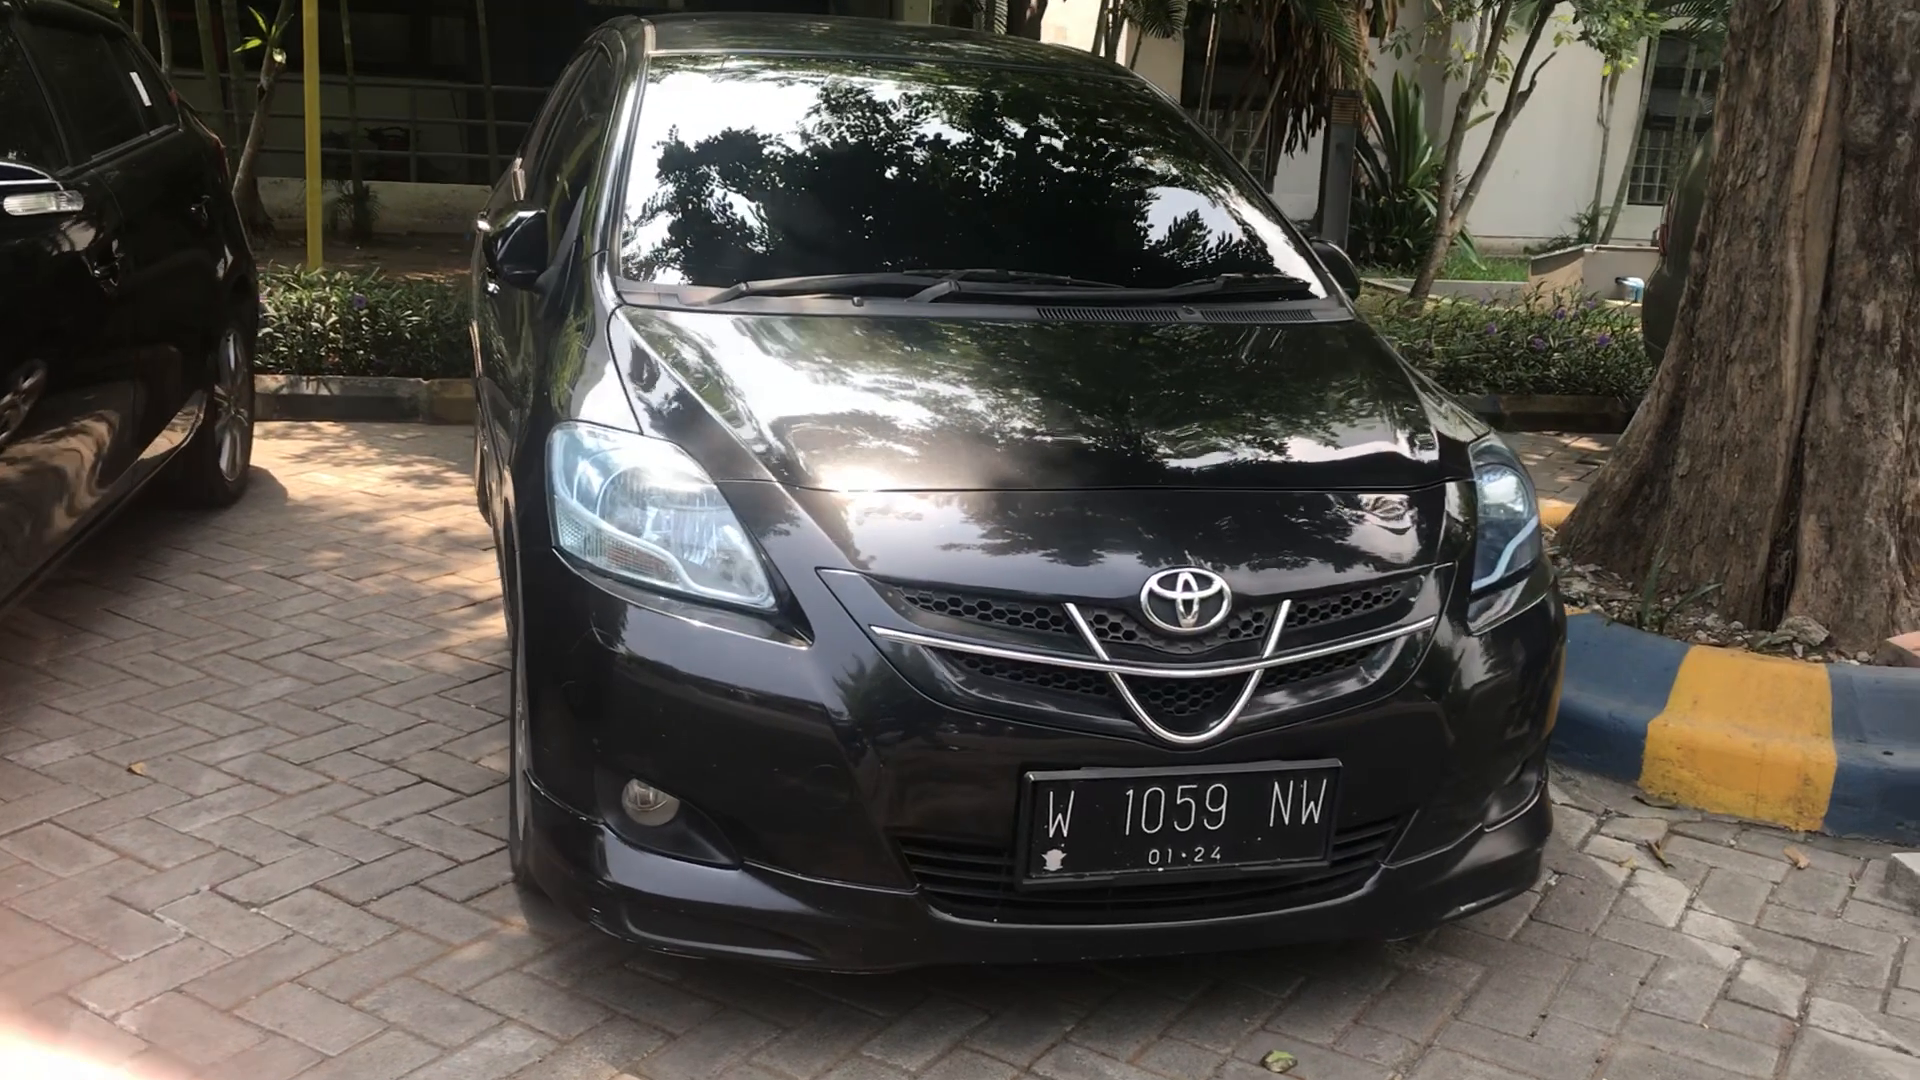plate: (1027, 770, 1342, 875)
